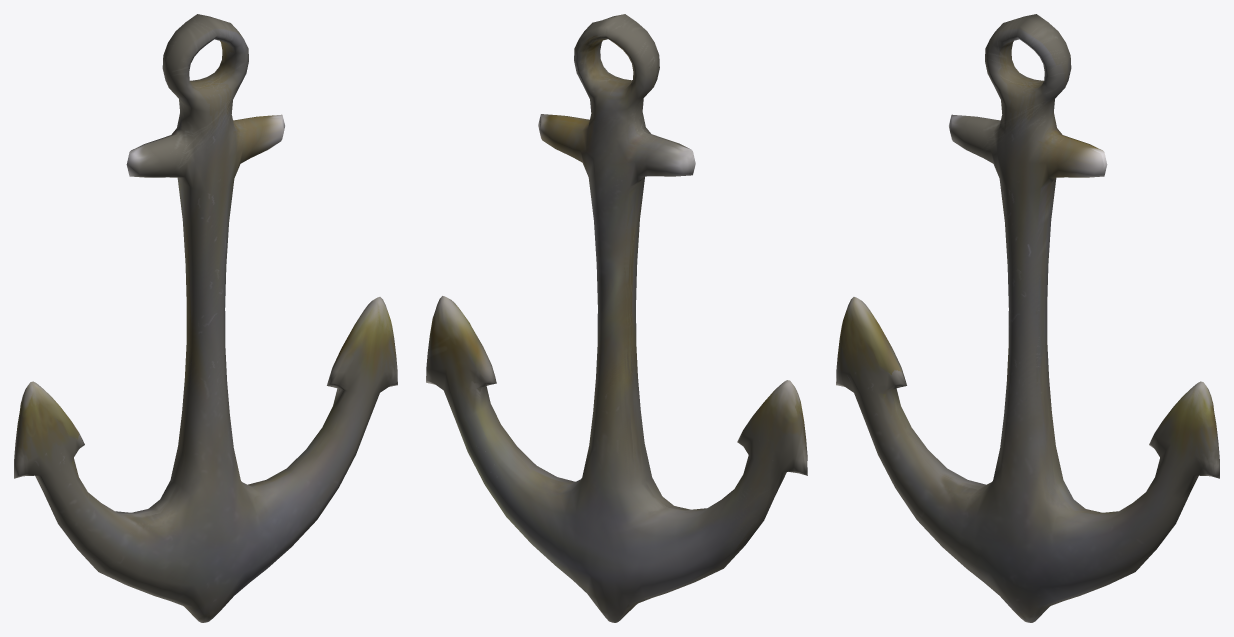
The model's file is anchor.fbx.
The picture shows the model from 3 angles, left to right: view 1: azimuth 30°, elevation 25°; view 2: azimuth 150°, elevation 25°; view 3: azimuth 330°, elevation 25°; orthographic projection.
Parts seen in each view (by area): view 1: Anchor; view 2: Anchor; view 3: Anchor.
Boxes of the visible parts, bbox=[...] form: Anchor: bbox=[14, 14, 397, 622]; Anchor: bbox=[426, 14, 807, 622]; Anchor: bbox=[836, 14, 1219, 622].
Size of the model in its own units: 119 by 179 by 17.47.
1 material, 1 textured.
